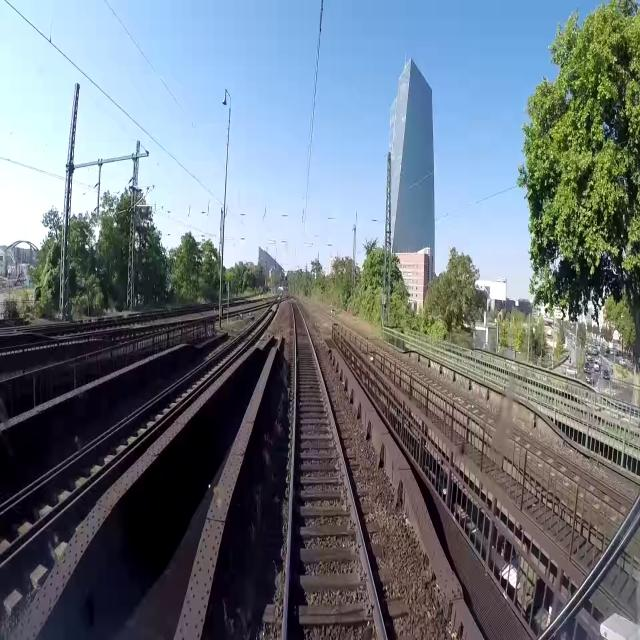rail-track: (0, 312, 270, 547), (287, 298, 382, 639)
